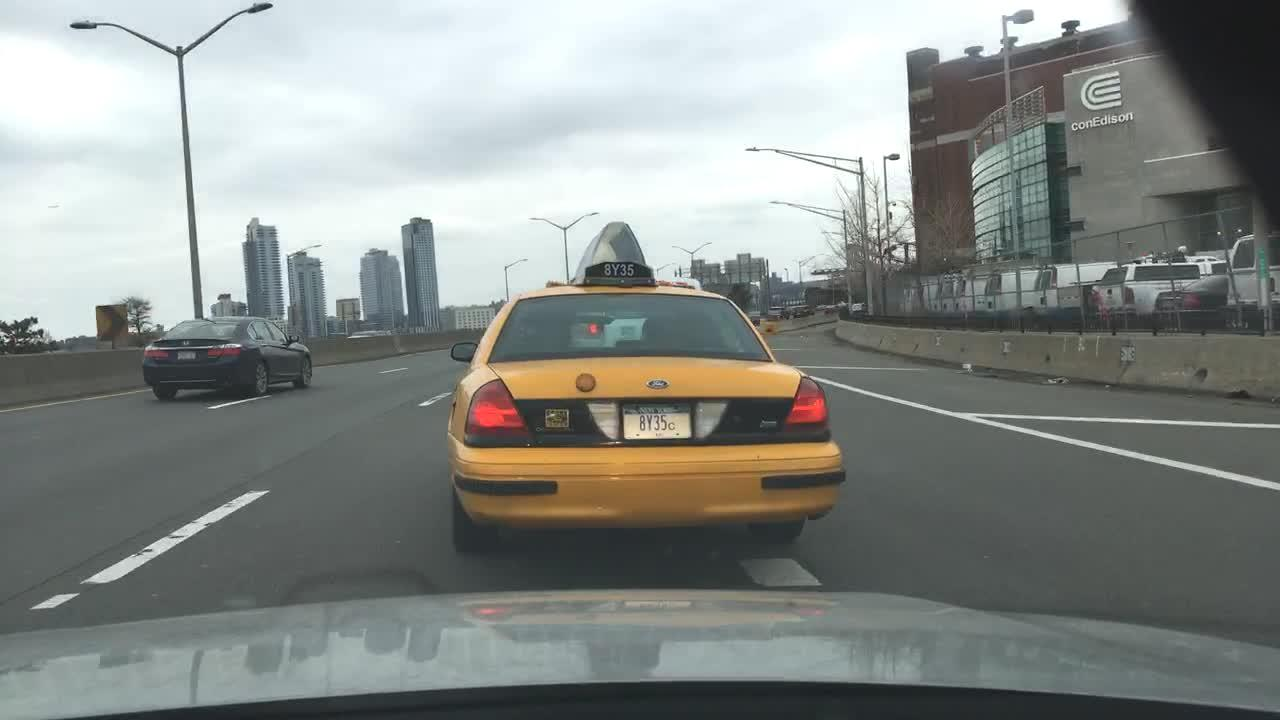ford: (646, 378, 671, 392)
